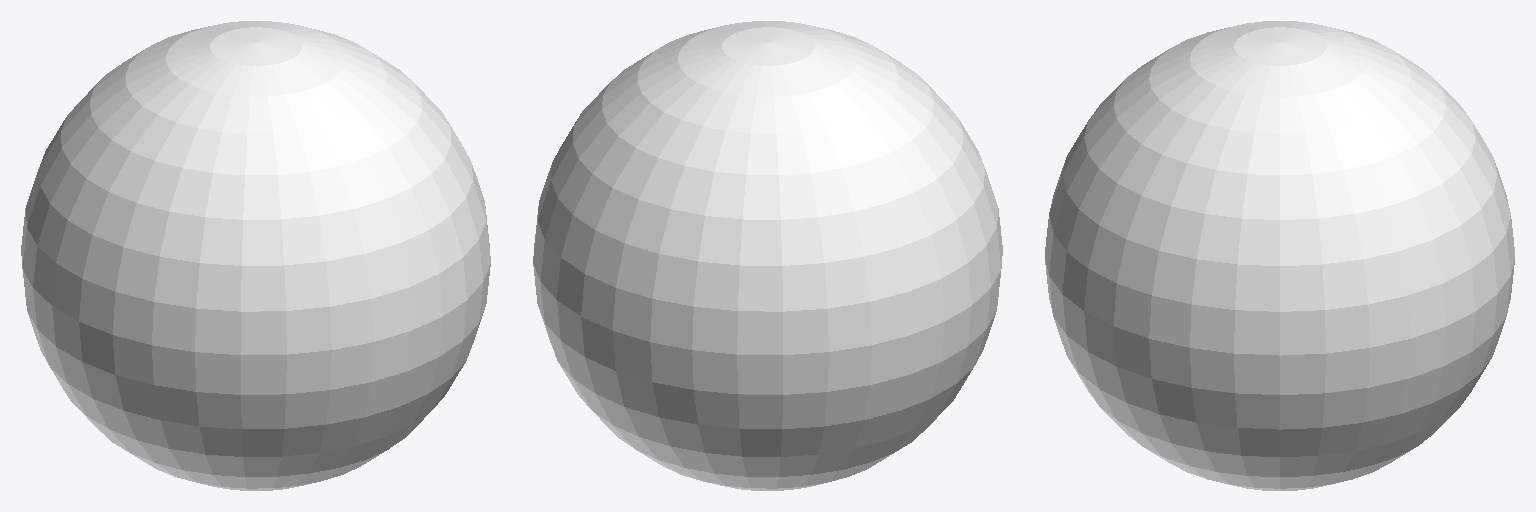
The model's file is sphere_raspi.obj.
3 views of the same model, side by side, from view 1: azimuth 30°, elevation 25°; view 2: azimuth 150°, elevation 25°; view 3: azimuth 270°, elevation 25° (orthographic).
Parts seen in each view (by area): view 1: sphere1; view 2: sphere1; view 3: sphere1.
Part boxes in pixels (left/top/right/bottom): sphere1: left=21, top=21, right=490, bottom=490; sphere1: left=533, top=21, right=1002, bottom=490; sphere1: left=1045, top=21, right=1514, bottom=490.
Bounding box in the file's own units: 4 × 4 × 4.